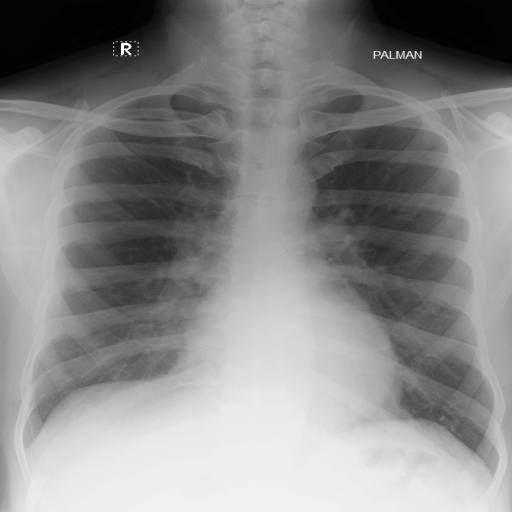normal: (11, 62, 506, 486)
